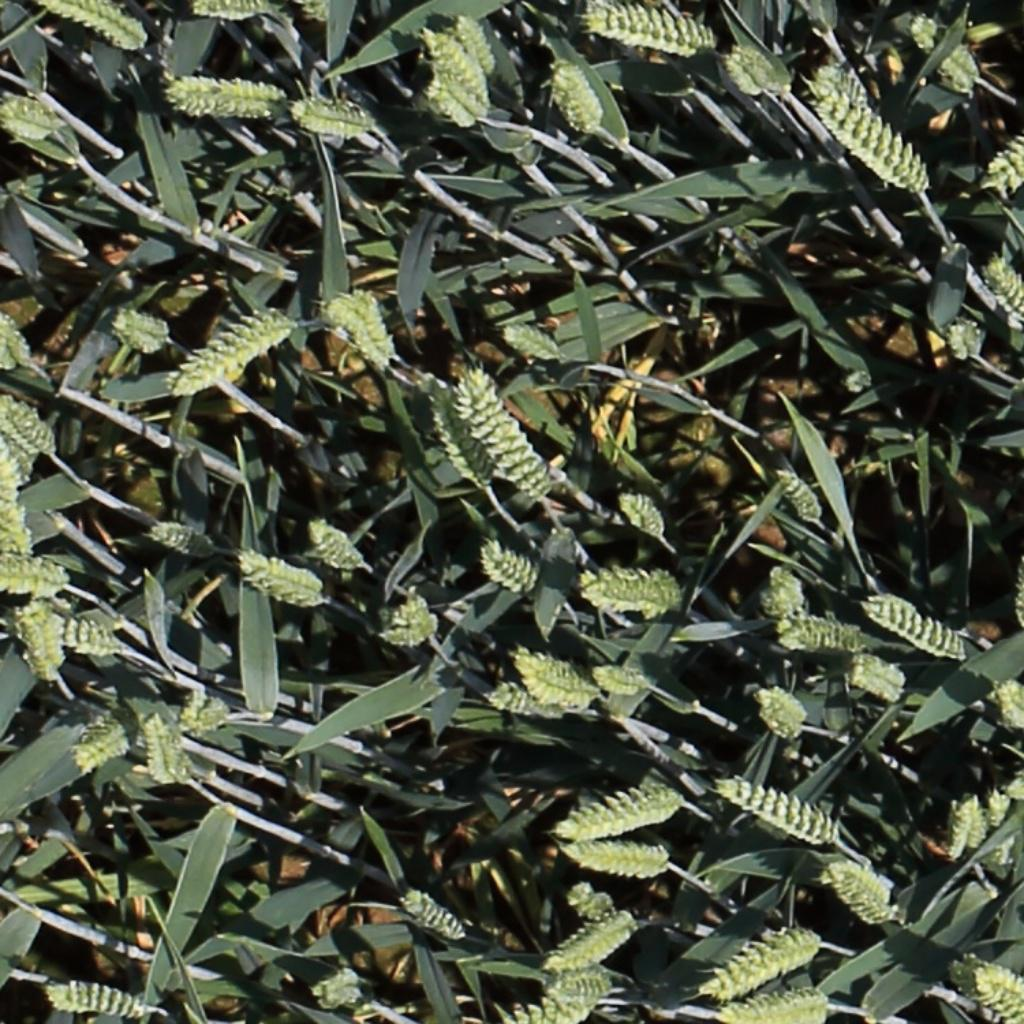0-0: (819, 76, 933, 193), (460, 365, 550, 499), (174, 312, 293, 394), (559, 776, 696, 836), (719, 779, 838, 845), (578, 0, 718, 53), (430, 387, 495, 490), (708, 939, 820, 996), (421, 25, 491, 113), (866, 598, 965, 659), (323, 293, 391, 370), (166, 81, 281, 126), (435, 15, 496, 98), (575, 566, 674, 617), (550, 917, 636, 973), (49, 1, 146, 49), (47, 614, 142, 663), (551, 54, 604, 139), (10, 600, 61, 688), (557, 832, 670, 871), (348, 285, 400, 364), (826, 865, 894, 924), (748, 680, 810, 744), (840, 649, 916, 701), (0, 393, 58, 461), (520, 655, 599, 703), (238, 554, 323, 598), (540, 969, 626, 1010), (774, 464, 828, 529), (453, 9, 502, 80), (726, 990, 837, 1021), (983, 251, 1024, 333), (241, 567, 324, 607), (299, 87, 374, 131), (402, 891, 466, 942), (143, 709, 182, 789), (305, 518, 365, 569), (0, 413, 21, 557), (311, 965, 371, 1015), (487, 999, 607, 1024), (480, 543, 539, 593), (617, 488, 670, 542), (716, 44, 771, 96), (954, 782, 991, 859), (49, 988, 147, 1017), (0, 107, 72, 146), (983, 125, 1024, 191), (973, 968, 1024, 1021), (779, 622, 868, 651), (0, 305, 35, 371), (400, 584, 436, 648), (503, 323, 563, 360), (180, 691, 228, 737), (488, 688, 561, 718), (556, 886, 620, 920), (73, 731, 126, 772), (768, 563, 808, 617), (148, 524, 217, 555), (933, 50, 980, 95), (993, 675, 1024, 734), (986, 779, 1014, 844), (111, 314, 169, 345), (750, 50, 787, 93), (910, 10, 942, 58), (946, 316, 977, 365), (593, 669, 652, 693), (192, 1, 267, 16), (0, 309, 16, 371), (0, 570, 66, 585), (303, 0, 334, 27), (1008, 774, 1024, 825)
